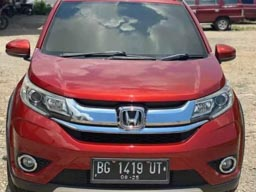plat: (92, 160, 166, 174)
